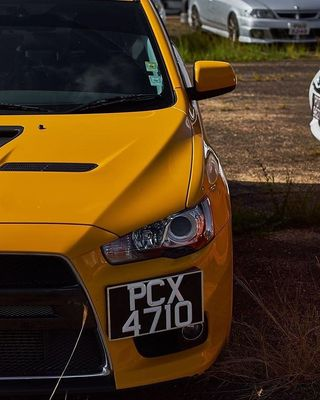License-Plate: (106, 287, 196, 340)
